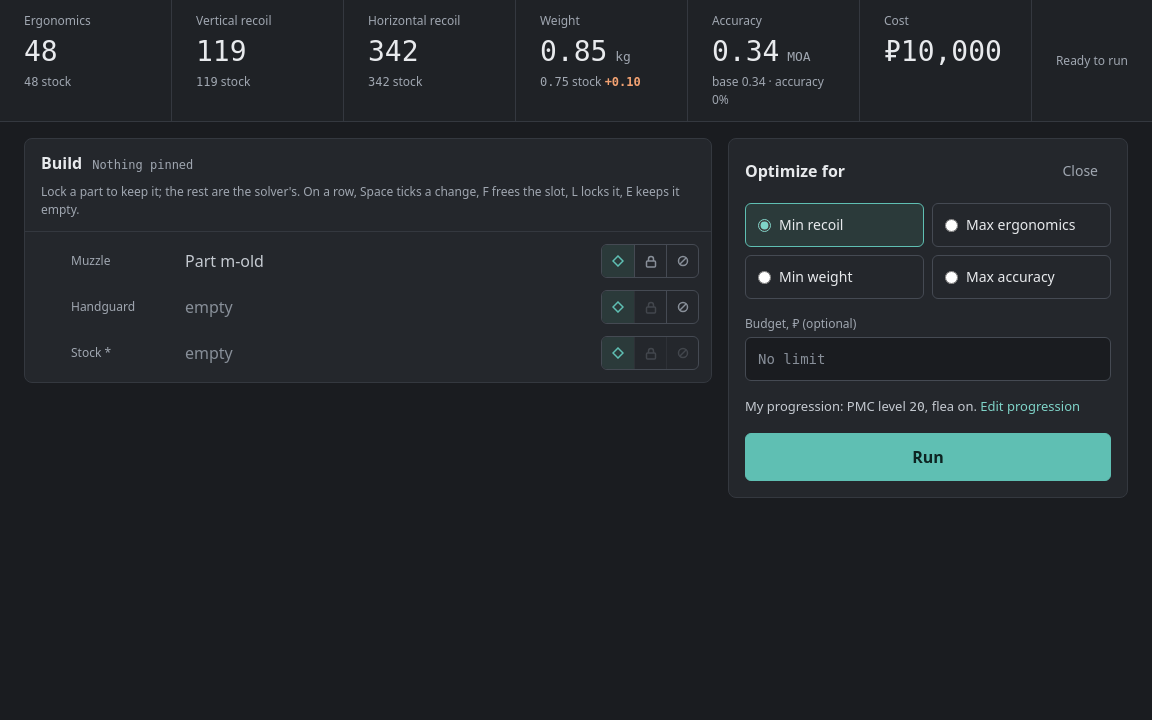
Test: OptimizeWorkbench › runs the solver in the worker with the form's constraints and the Builder's time limit
Click the button "Run" at {"x": 928, "y": 456}, box [745, 432, 1111, 480]
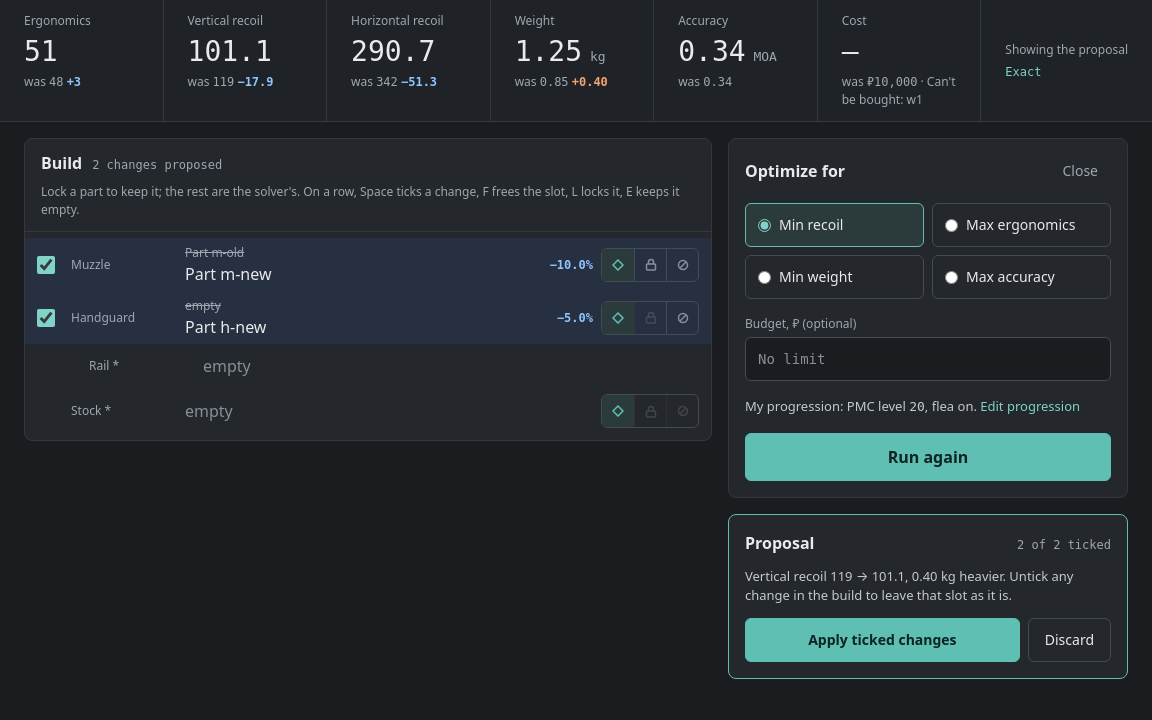
Now the element "Proposal" is shown, box [728, 514, 1128, 678]
Now the button "Run again" is shown, box [745, 432, 1111, 480]
